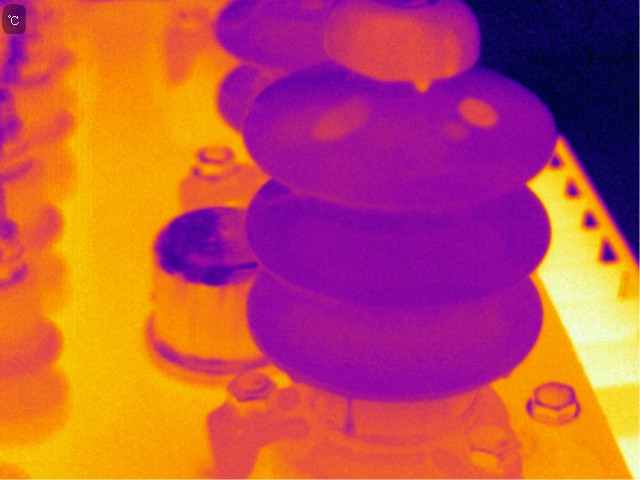Oil: (323, 2, 485, 90), (349, 19, 468, 94), (311, 94, 377, 146), (272, 103, 317, 161), (459, 95, 505, 131), (341, 386, 360, 437), (277, 182, 311, 206), (443, 122, 477, 145), (286, 370, 306, 388), (497, 370, 517, 382)
